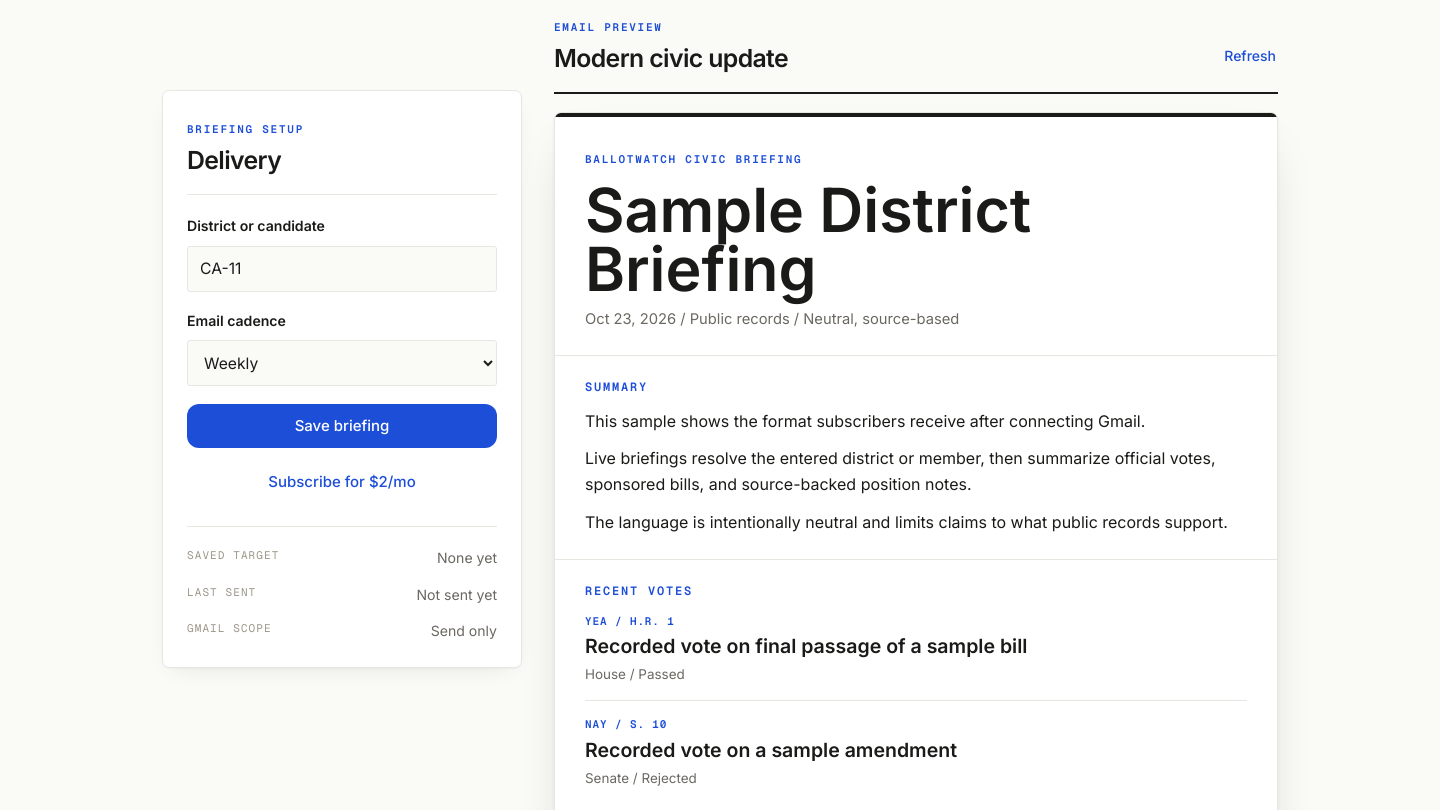
Test: Civic Briefing checkout › shows an error, re-enables the button, and never redirects to a Stripe payment link when checkout fails
(page scrolled)
Click the button "Subscribe for $2/mo": (342, 482) [187,460,497,504]
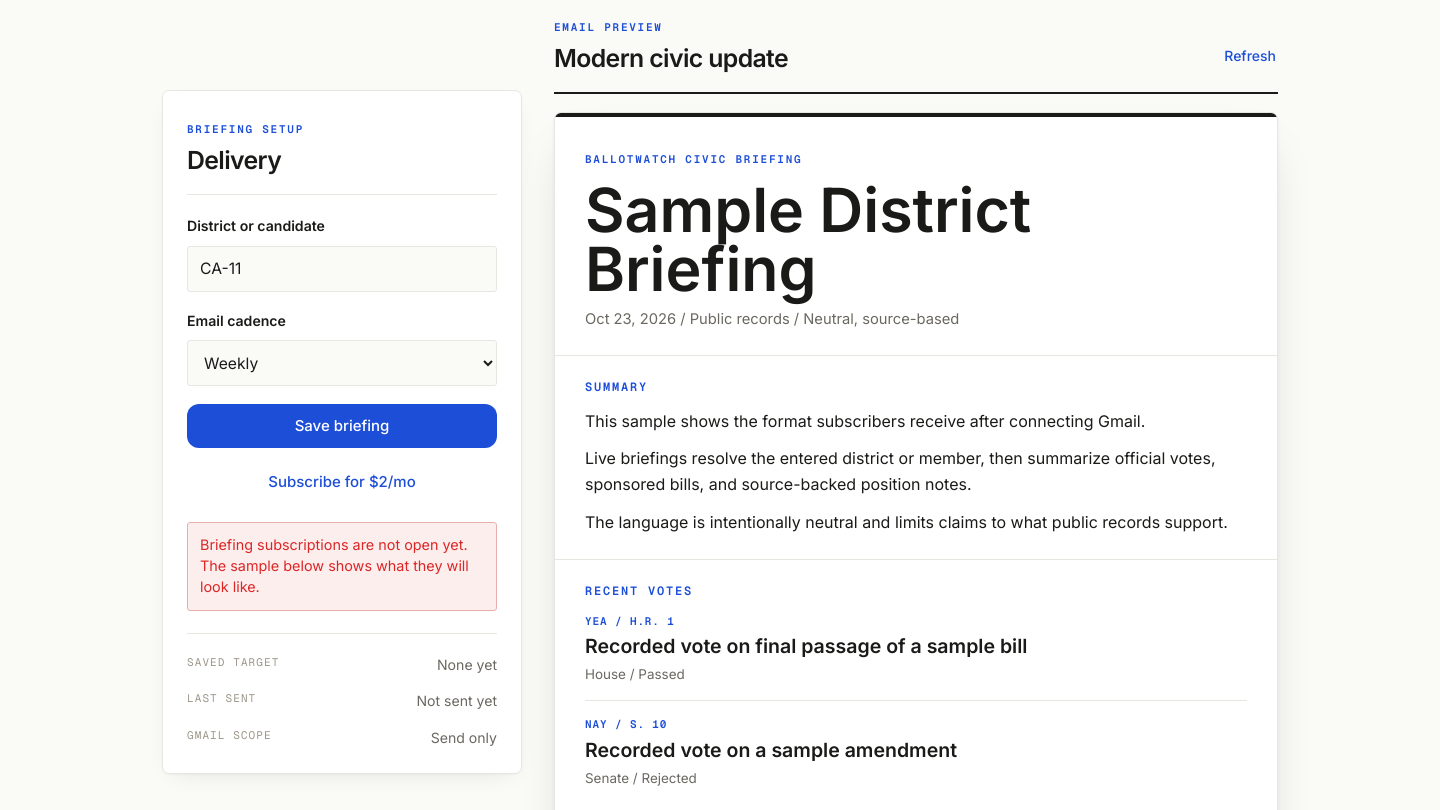
Expected: the text "Briefing subscriptions are not open yet. The sample below shows what they will look like." is shown, [200,536,469,595]
